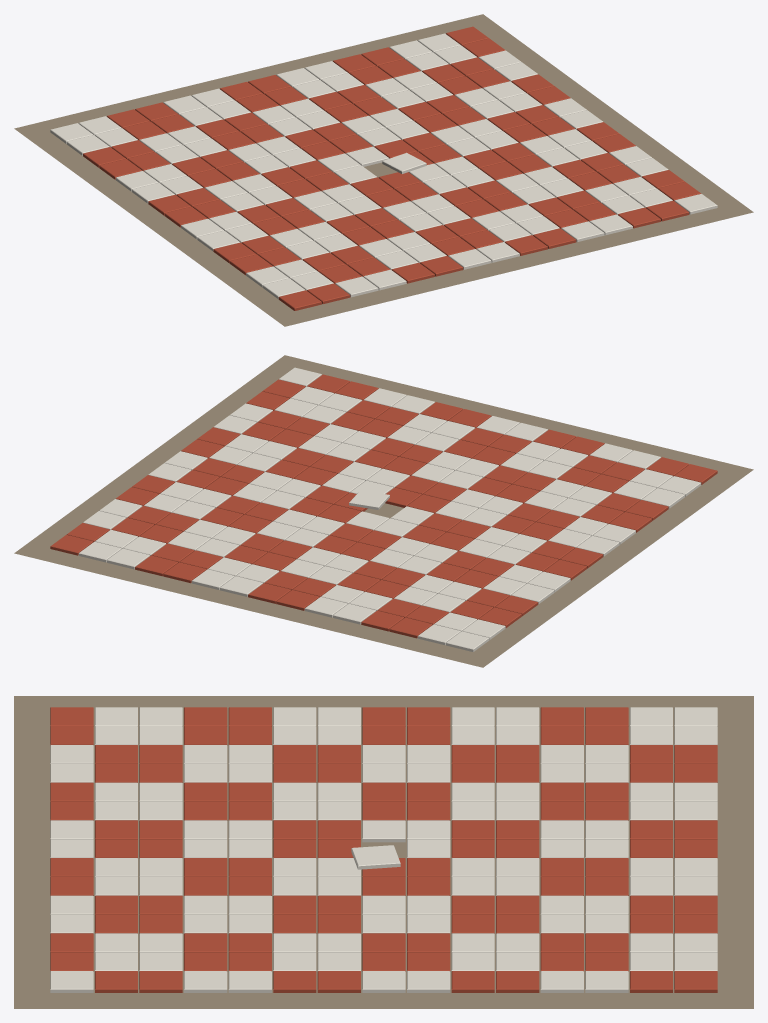
Rendered from terilgan.glb.
3 views of the same model, one above another, from view 1: azimuth 30°, elevation 25°; view 2: azimuth 150°, elevation 25°; view 3: azimuth 270°, elevation 25° (orthographic). The views are drawn at different scales.
Visible parts, largest first — view 1: qum, t.112, t, t.150, t.195, t.105, t.015, t.060, t.090, t.030, t.075, t.135 (+6 smaller); view 2: qum, t.014, t.112, t.164, t.209, t.119, t.029, t.074, t.104, t.044, t.089, t.149 (+5 smaller); view 3: qum, t.112, t.097, t.210, t.212, t.213, t.214, t.215, t.216, t.217, t.218, t.219 (+213 smaller).
Part boxes in pixels (x1,y1,x2,y2): qum: (14,14,753,326); t.112: (382,152,426,173); t: (278,290,321,310); t.150: (561,221,604,242); t.195: (646,200,689,221); t.105: (476,242,519,262); t.015: (307,283,350,303); t.060: (392,262,434,283); t.090: (448,249,491,269); t.030: (335,276,378,297); t.075: (420,256,463,276); t.135: (533,228,576,248); qum: (14,355,753,667); t.014: (446,631,489,651); t.112: (349,490,389,509); t.164: (163,562,206,583); t.209: (78,541,121,562); t.119: (248,583,291,603); t.029: (417,624,460,644); t.074: (333,603,375,624); t.104: (276,590,319,610); t.044: (389,617,432,638); t.089: (304,597,347,617); t.149: (191,569,234,589); qum: (14,696,753,1008); t.112: (351,845,400,869); t.097: (362,820,405,842); t.210: (50,971,93,992); t.212: (139,971,182,992); t.213: (184,971,227,992); t.214: (228,971,271,992); t.215: (273,971,316,992); t.216: (317,971,360,992); t.217: (362,971,405,992); t.218: (407,971,450,992); t.219: (451,971,494,992).
Size of the model in its own units: 1.66 by 0.022 by 1.66.
